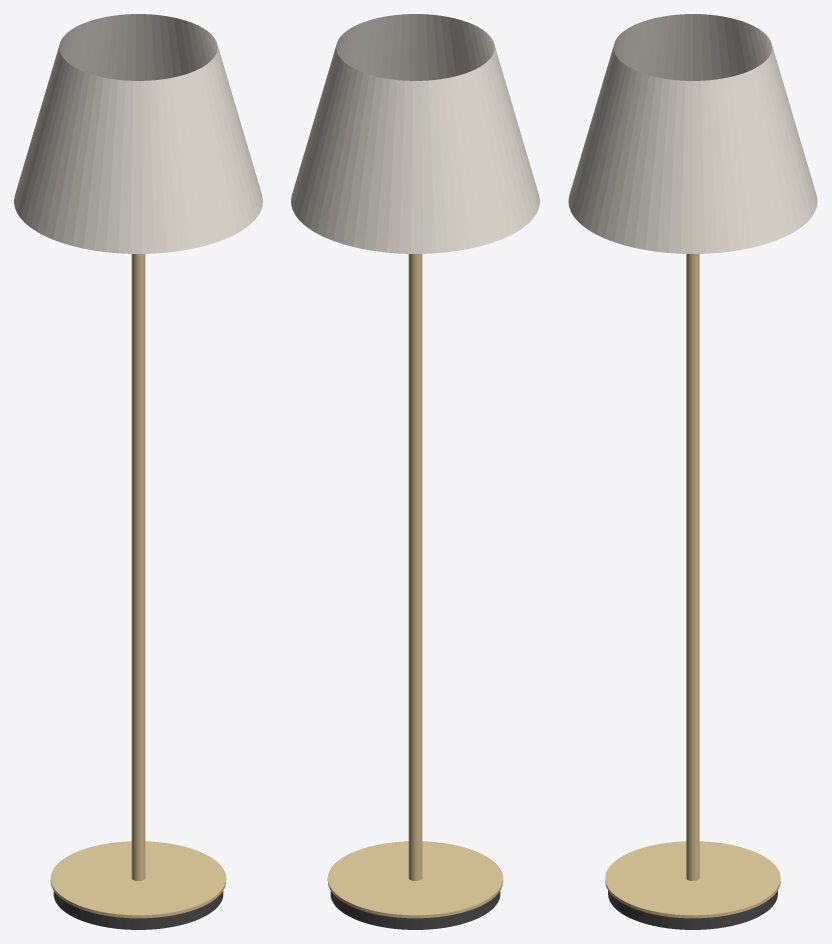
The model's file is lampara-de-pie.glb.
The picture shows the model from 3 angles, left to right: view 1: azimuth 30°, elevation 25°; view 2: azimuth 150°, elevation 25°; view 3: azimuth 270°, elevation 25°; orthographic projection.
Parts seen in each view (by area): view 1: pantalla, anillo_base, poste, base; view 2: pantalla, anillo_base, poste, base; view 3: pantalla, anillo_base, poste, base.
Boxes of the visible parts, <box> form: pantalla: <box>14,14,262,253</box>; anillo_base: <box>50,841,226,918</box>; poste: <box>131,254,145,880</box>; base: <box>53,891,223,929</box>; pantalla: <box>291,14,539,253</box>; anillo_base: <box>327,841,503,918</box>; poste: <box>408,254,422,880</box>; base: <box>330,891,500,929</box>; pantalla: <box>568,14,817,253</box>; anillo_base: <box>605,841,780,918</box>; poste: <box>686,254,699,880</box>; base: <box>608,891,777,929</box>.
Size of the model in its own units: 0.44 by 1.65 by 0.44.
